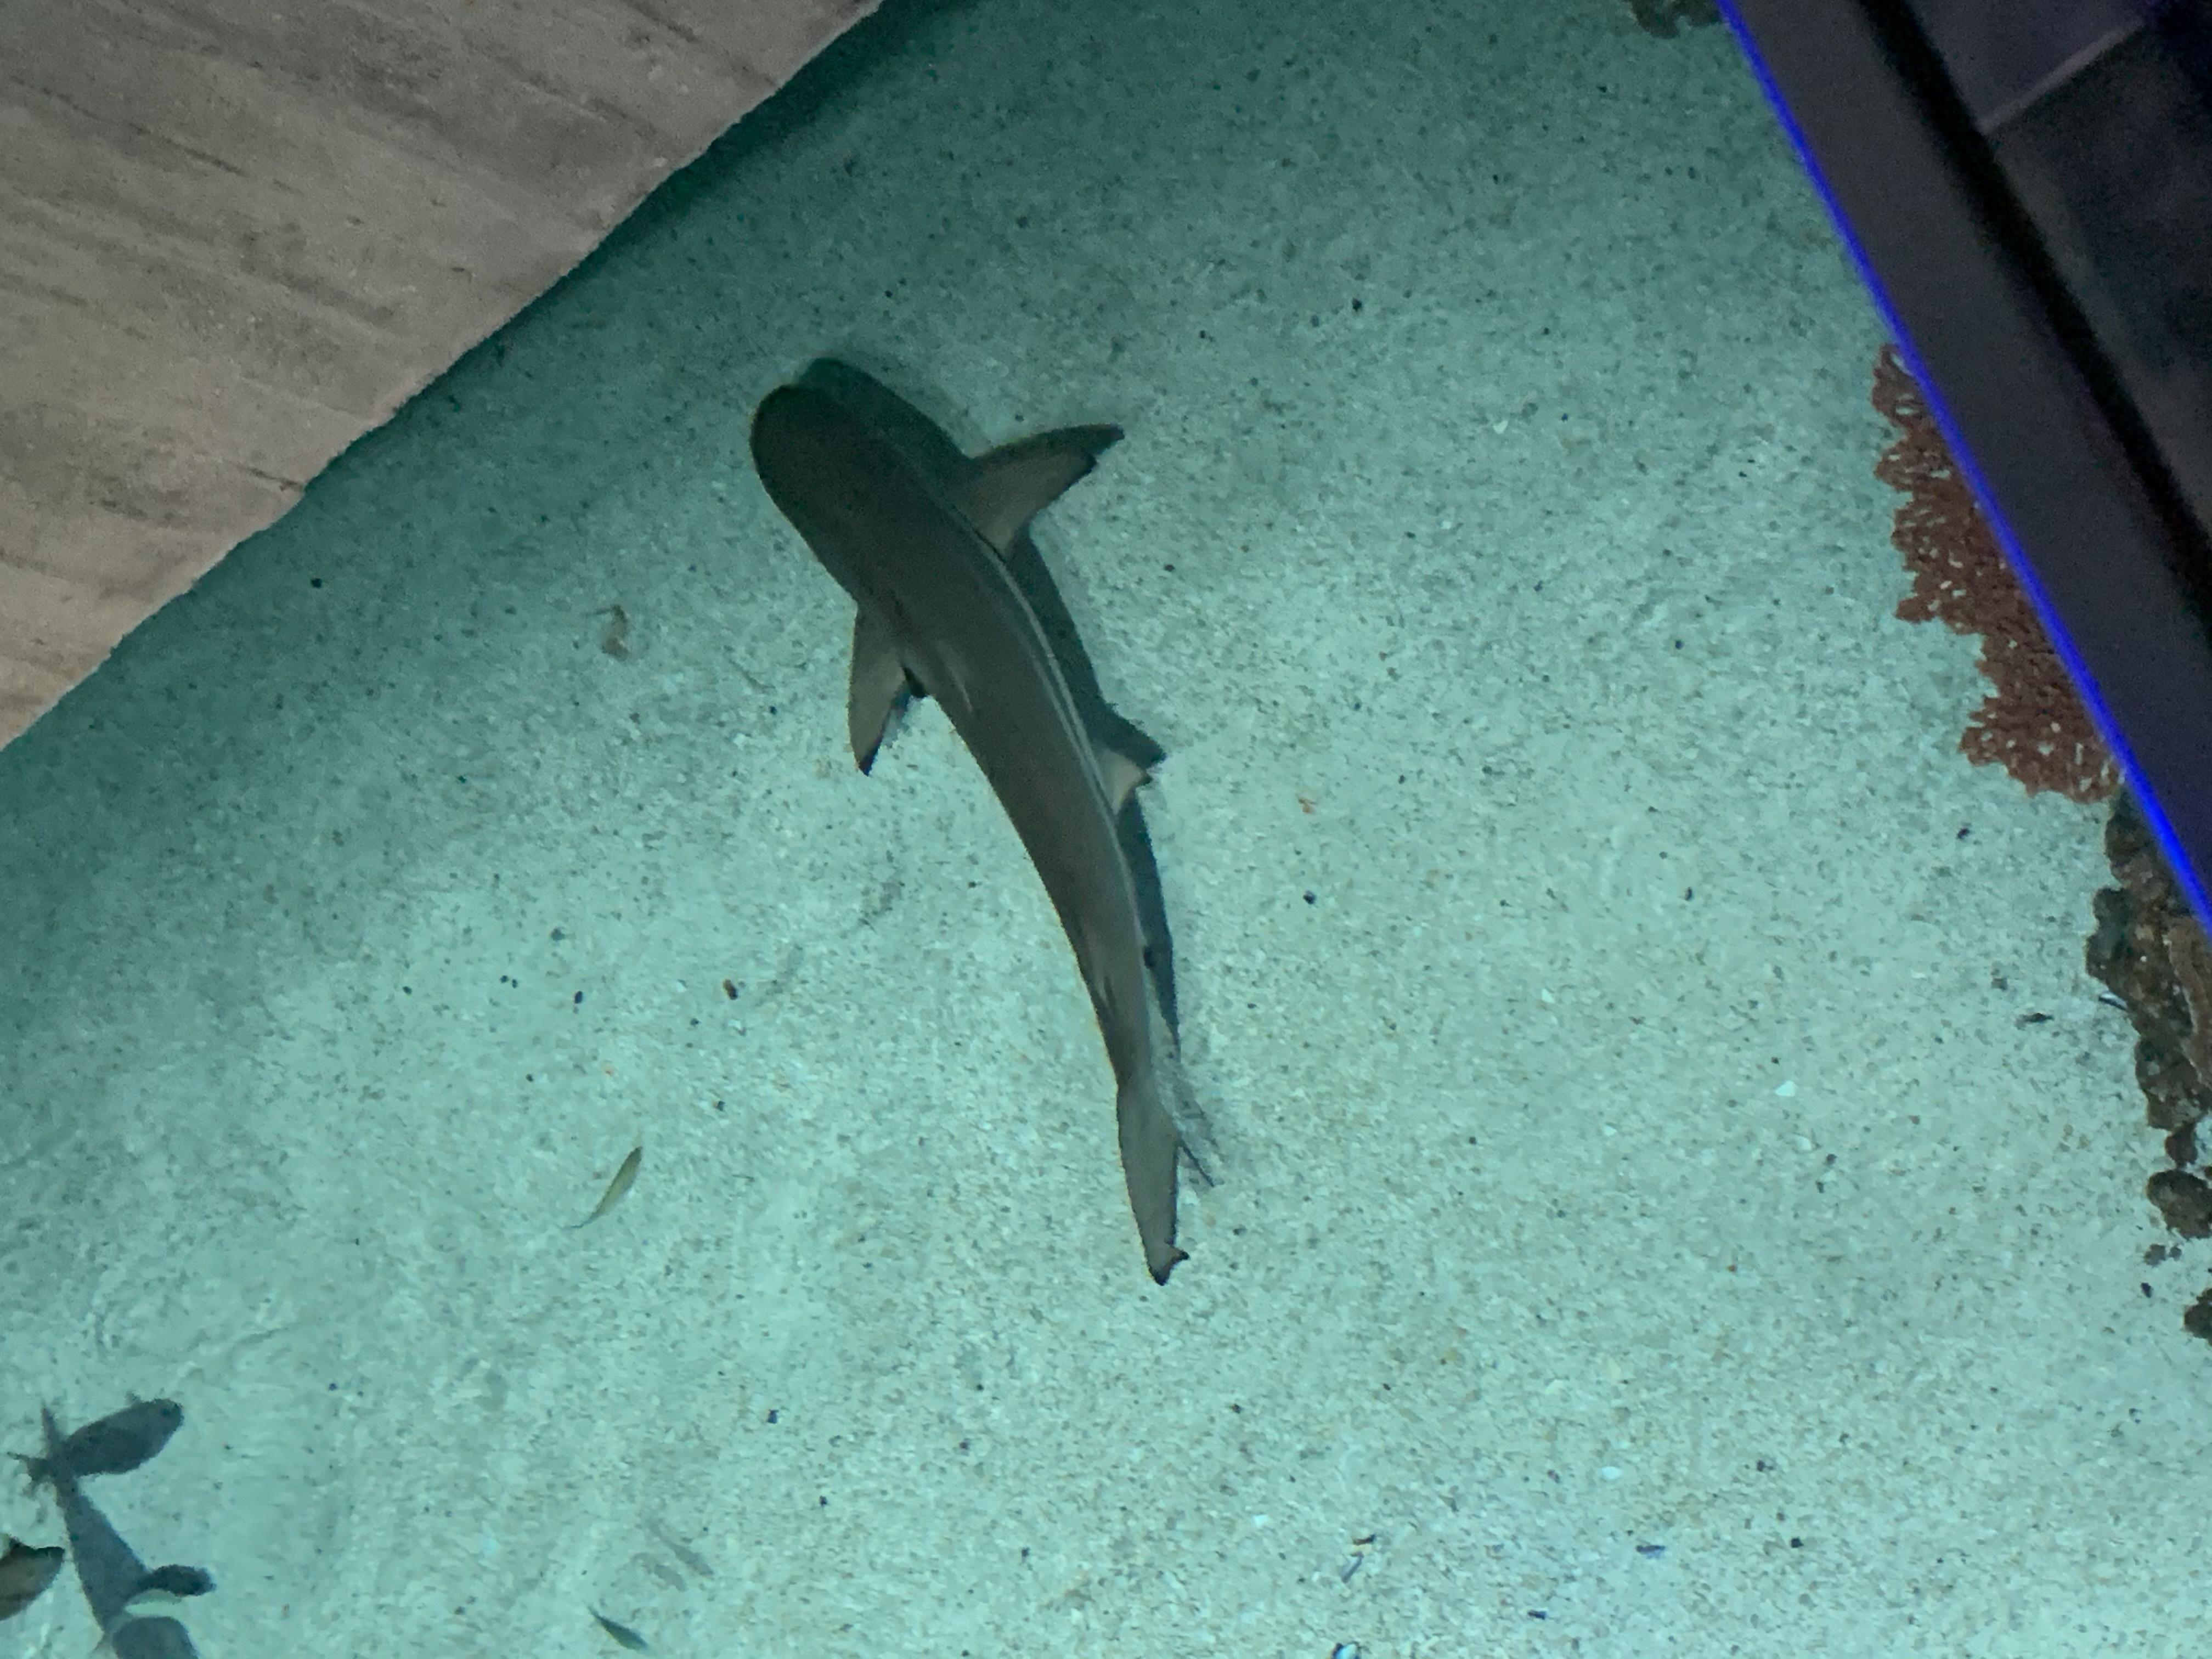fish: (12, 1394, 183, 1490)
shark: (749, 383, 1233, 1286)
